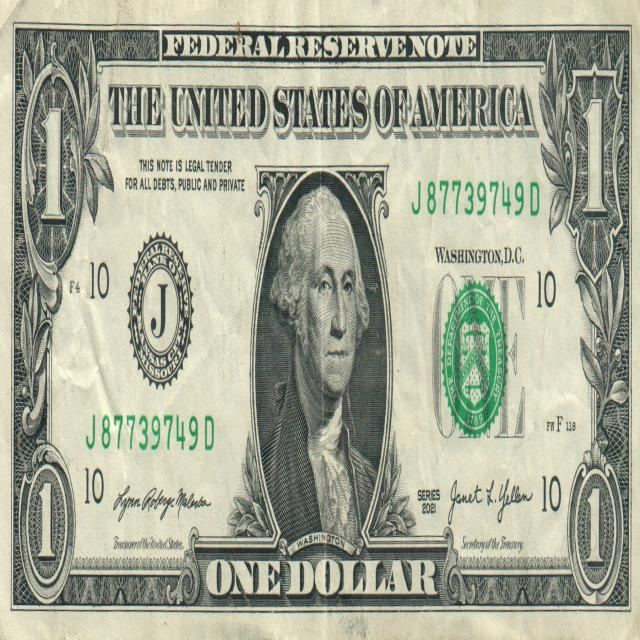SerialNumber: (86, 415, 213, 451), (412, 180, 539, 216)
